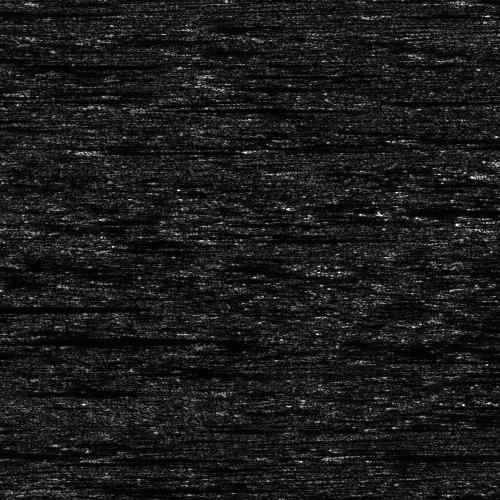rock: (0, 482, 125, 495), (99, 103, 224, 112), (59, 145, 112, 154), (352, 208, 405, 213), (206, 235, 237, 240), (471, 171, 500, 176), (0, 334, 19, 341), (0, 388, 25, 393), (342, 451, 383, 454), (450, 0, 491, 2)
shadow: (37, 482, 242, 495), (86, 145, 362, 154), (162, 103, 363, 112), (0, 334, 209, 341), (0, 60, 120, 69), (222, 235, 349, 240), (379, 208, 500, 213), (0, 388, 111, 393), (363, 451, 500, 454), (0, 303, 60, 308)
